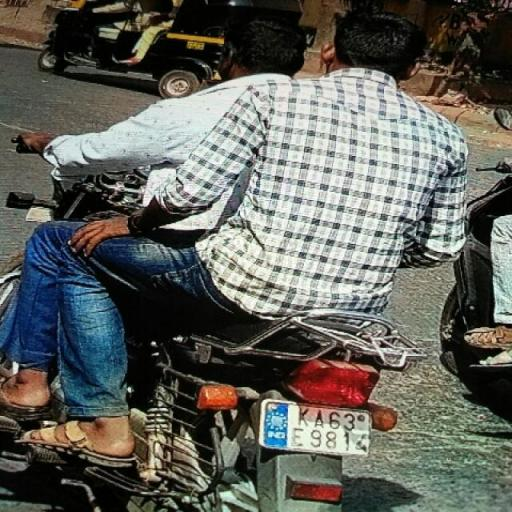bike: (1, 0, 483, 512)
numberplate: (264, 394, 376, 460)
withouthelmet: (334, 0, 420, 76), (225, 6, 304, 72)
